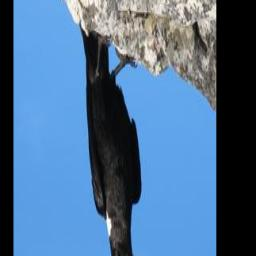Crow: (78, 20, 143, 256)
